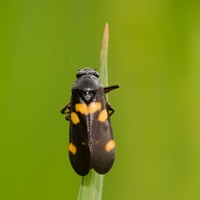insect: (61, 68, 118, 175), (61, 68, 118, 175)
